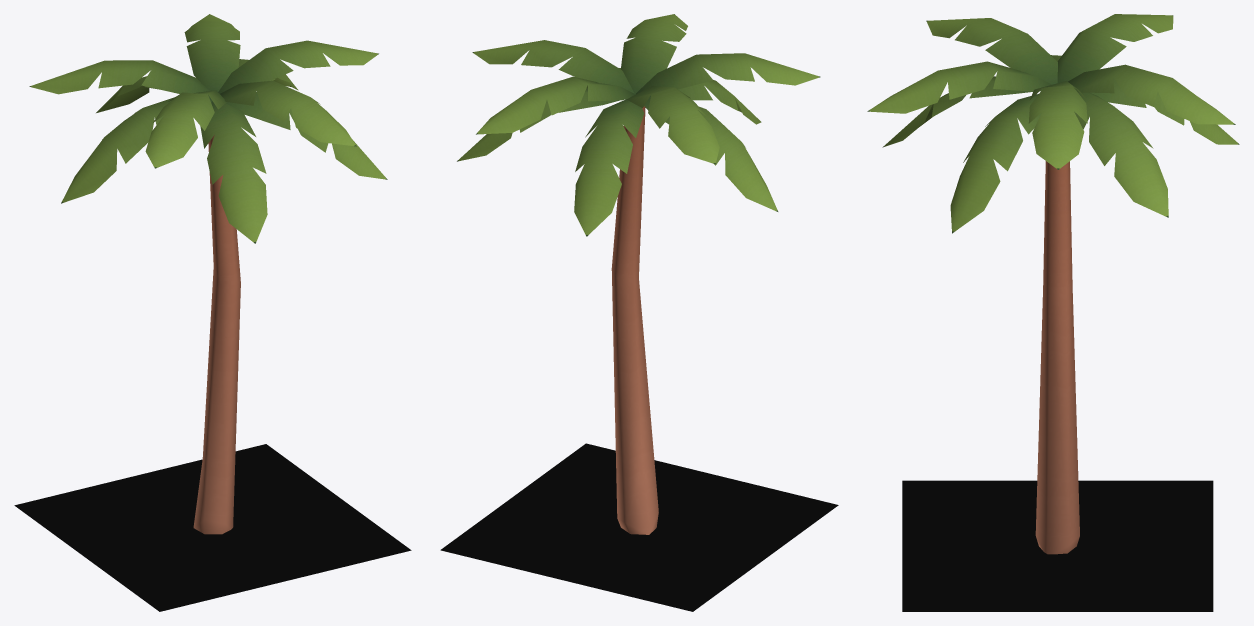
File: palm_2.fbx
3 renders of one model, left to right at view 1: azimuth 30°, elevation 25°; view 2: azimuth 150°, elevation 25°; view 3: azimuth 270°, elevation 25°, orthographic. The views are drawn at different scales.
Parts seen in each view (by area): view 1: palm_2, palm_shadow.001; view 2: palm_2, palm_shadow.001; view 3: palm_2, palm_shadow.001.
Boxes of the visible parts, x1=… form: palm_2: x1=29, y1=14, x2=387, y2=534; palm_shadow.001: x1=14, y1=444, x2=411, y2=611; palm_2: x1=457, y1=14, x2=820, y2=534; palm_shadow.001: x1=440, y1=443, x2=838, y2=611; palm_2: x1=867, y1=14, x2=1239, y2=554; palm_shadow.001: x1=902, y1=480, x2=1213, y2=611.
Size of the model in its own units: 371 by 528 by 360.
